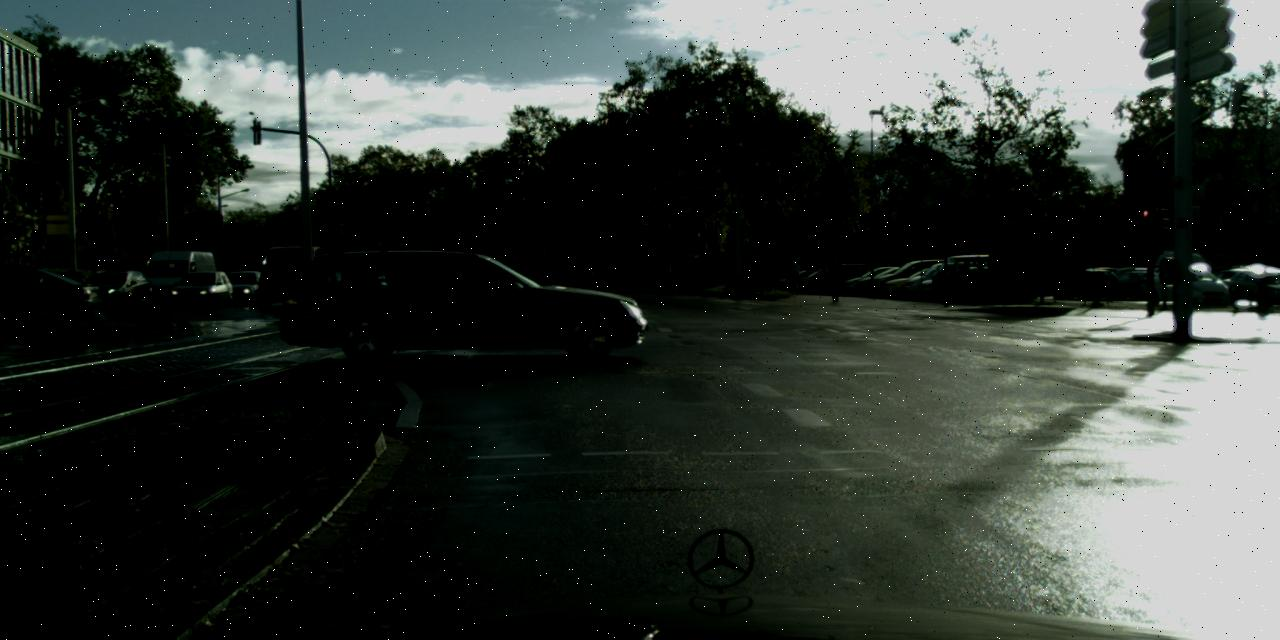ped: (826, 258, 844, 301), (788, 259, 800, 289)
